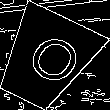O_SW: (12, 27, 80, 92)
